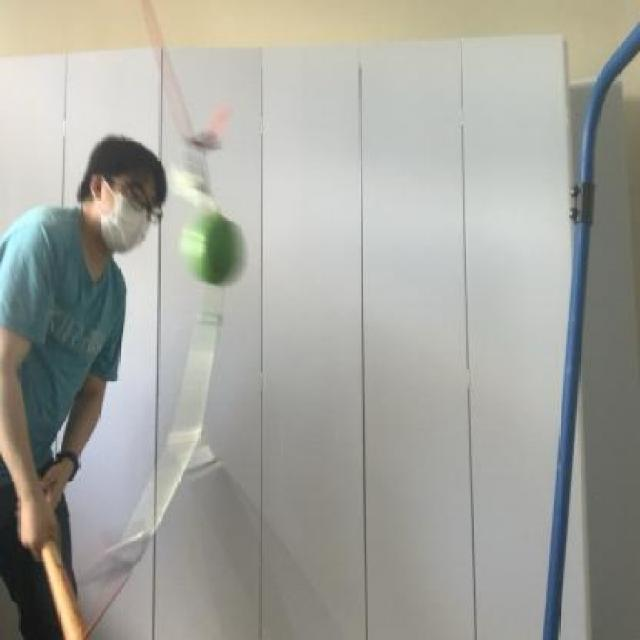baseball: (172, 208, 250, 288)
